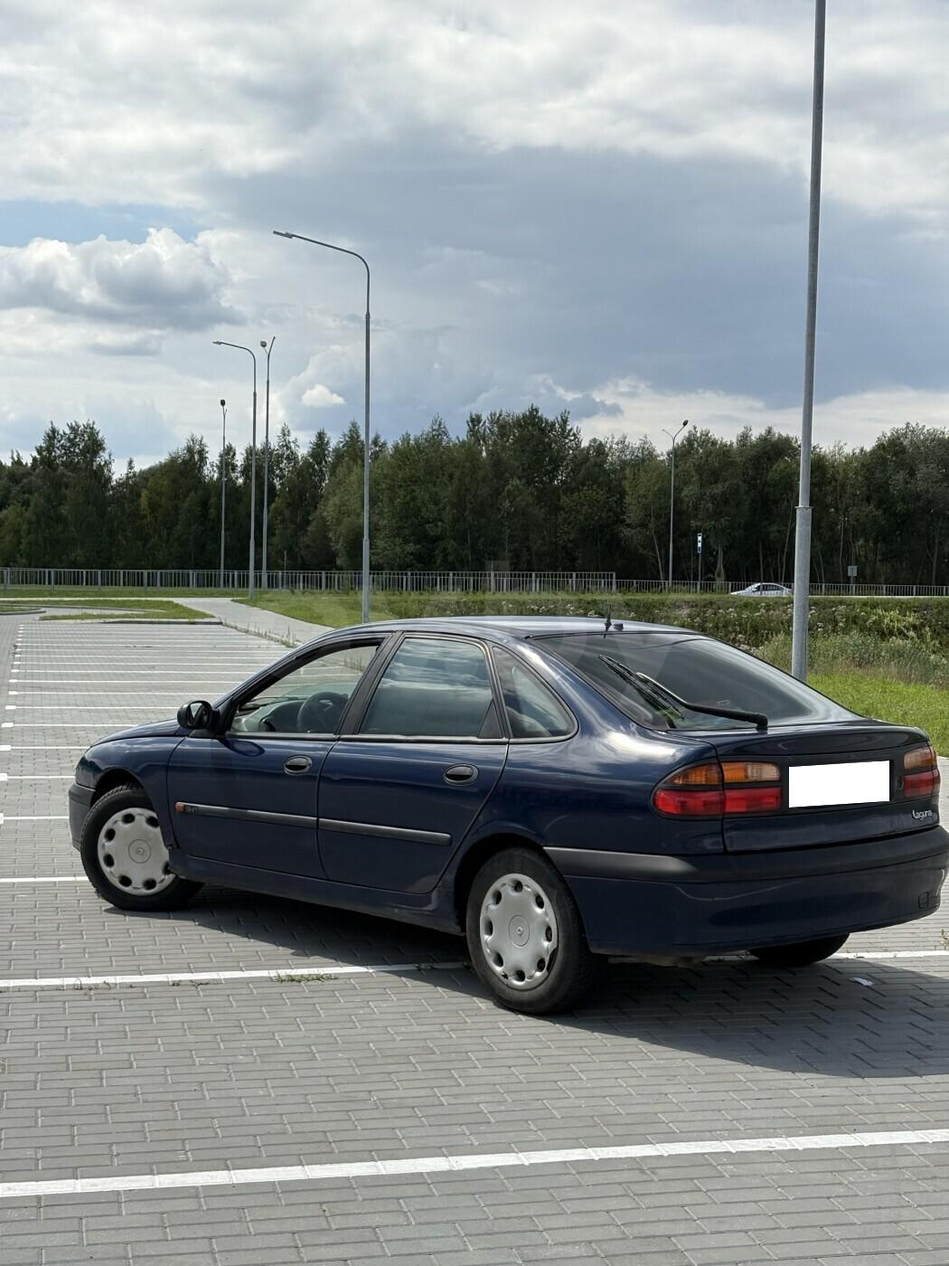Laguna_1998-2001: (69, 606, 949, 1018)
